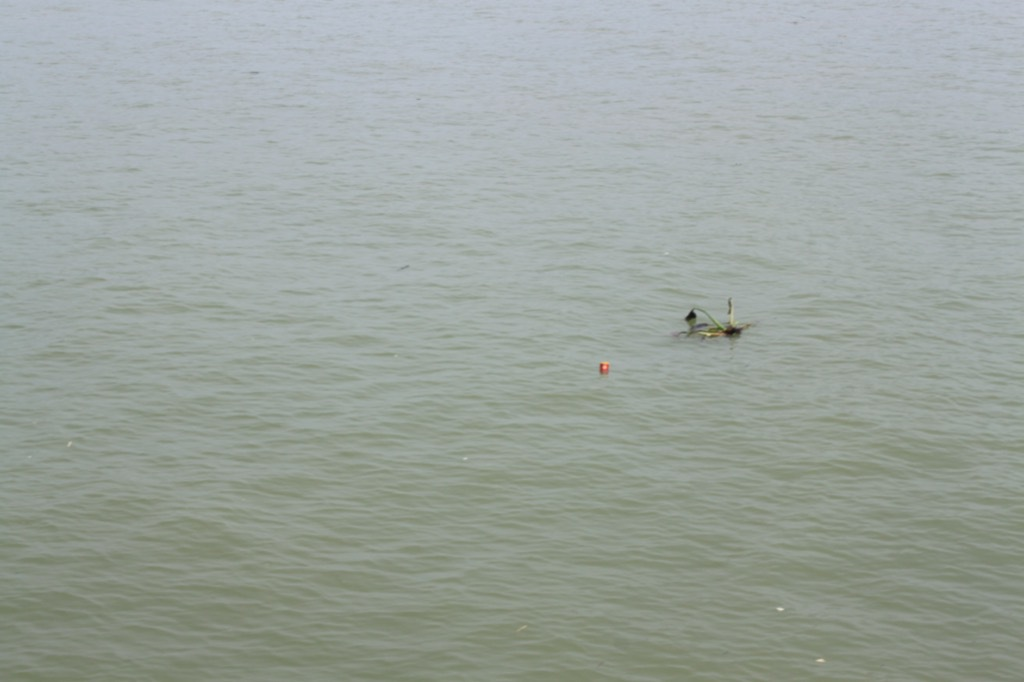organic: (660, 290, 771, 357), (383, 255, 419, 281), (503, 616, 533, 642)
plastic: (592, 356, 621, 383), (22, 452, 38, 467), (62, 439, 77, 453), (662, 249, 675, 261), (773, 604, 787, 615), (815, 655, 828, 666), (460, 453, 470, 465)
